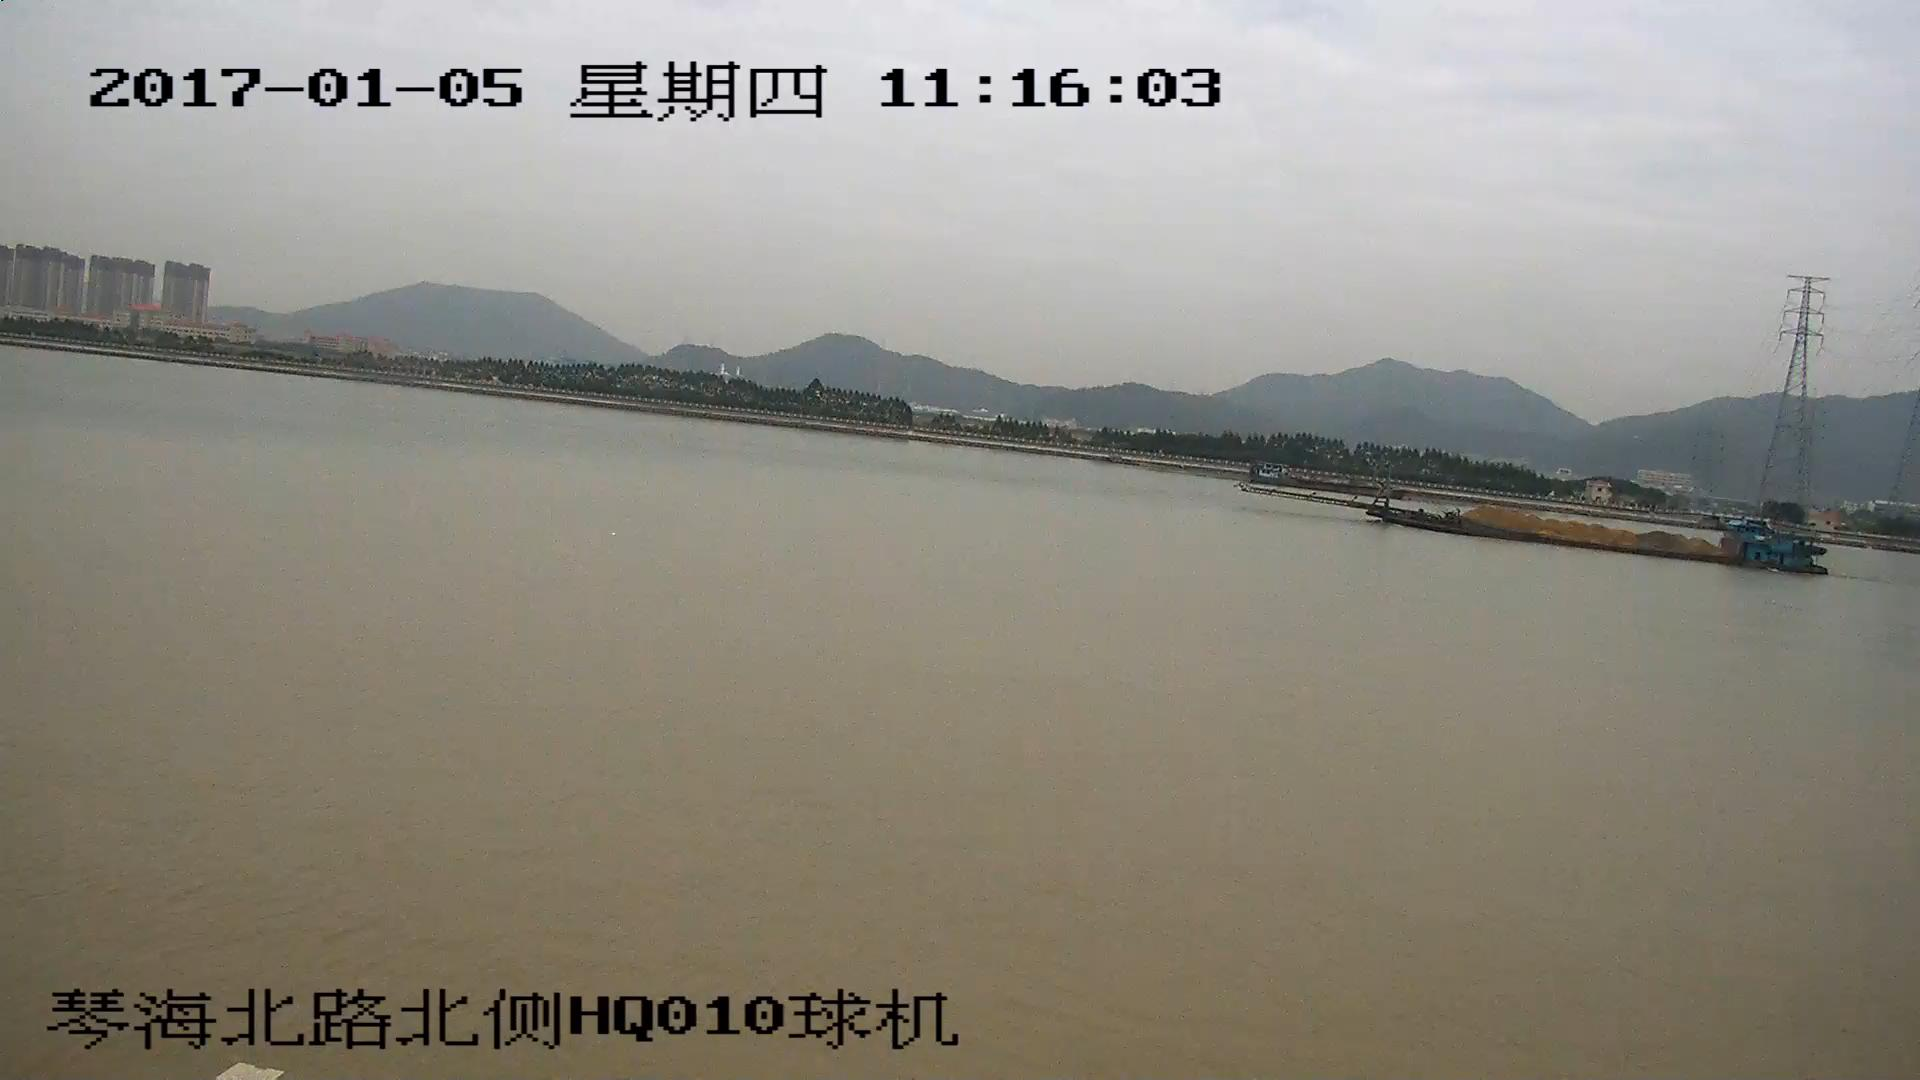ore carrier: (1238, 475, 1823, 572)
